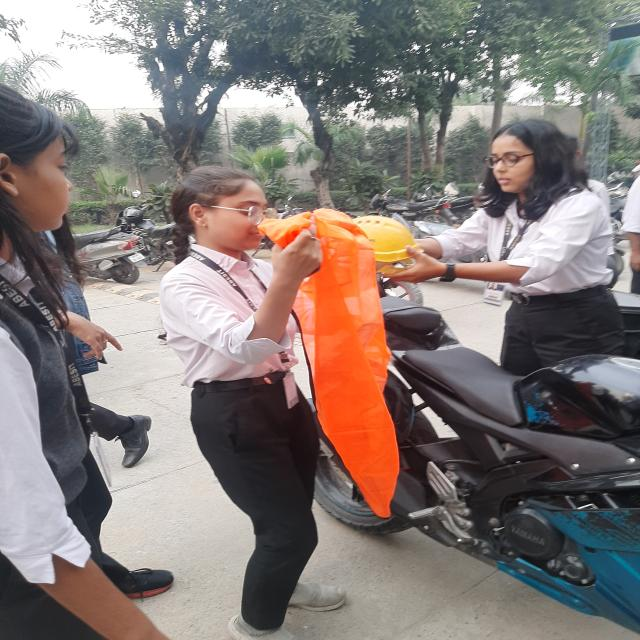unsafe: (151, 160, 375, 634), (0, 81, 159, 640), (392, 119, 636, 385)
